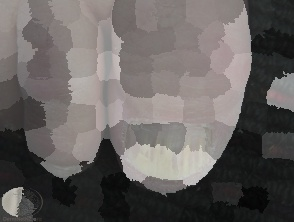Nail_psoriasis: (111, 105, 235, 204), (33, 151, 99, 190)
